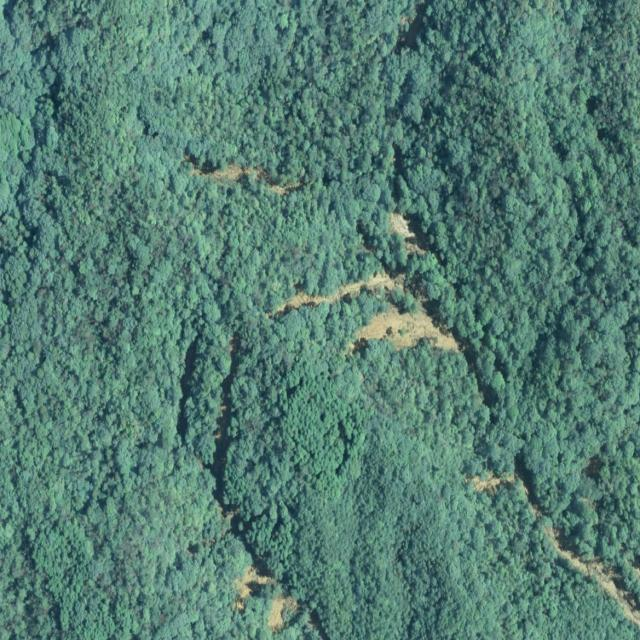landslide: (544, 526, 640, 627), (269, 271, 405, 316), (350, 302, 460, 352), (351, 305, 460, 352), (191, 163, 303, 195), (235, 567, 276, 612), (390, 212, 426, 254), (267, 594, 298, 634), (399, 329, 408, 336), (514, 329, 517, 334)
